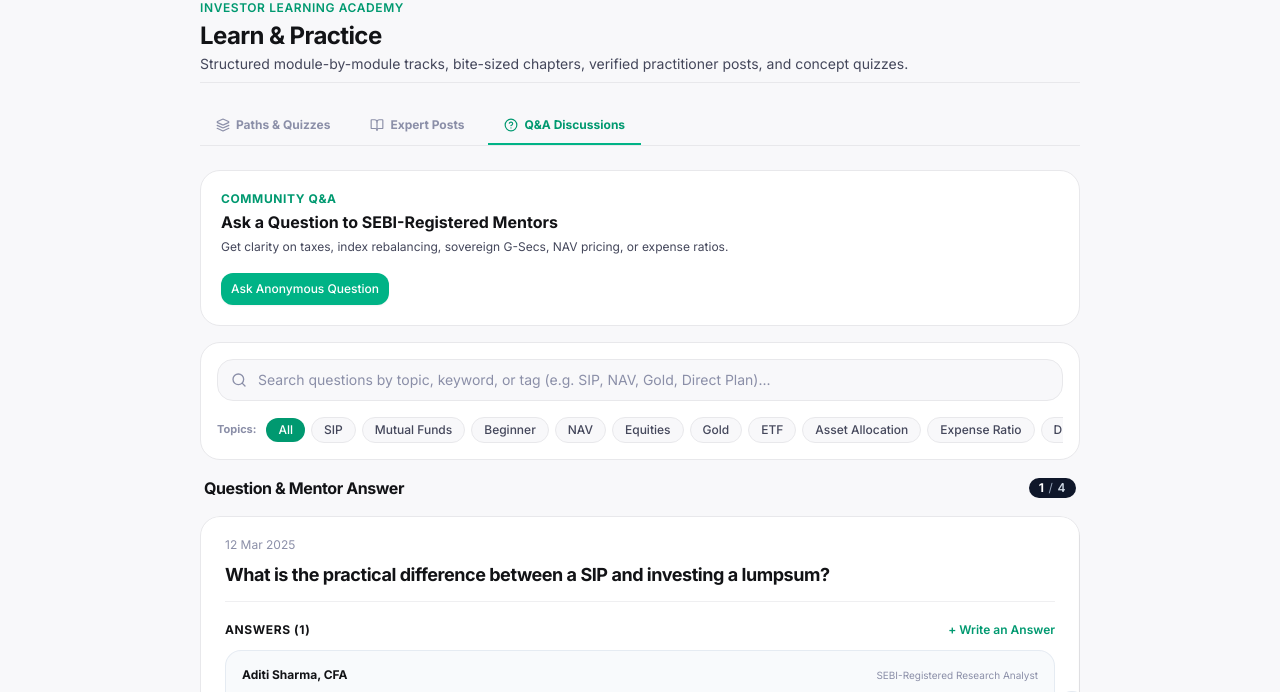
Test: LearnPage Q&A Discussions › does NOT render community standards and rules, and provides interactive question search and tag filtering
The image size is (1280, 692).
expect the heading "What is the practical difference between a SIP and investing a lumpsum" is shown: met, box [225,564,830,584]
# Search for "Gold"
Replace the text in the field labelled "Search questions" with "Gold": (640, 380) [217,358,1063,400]
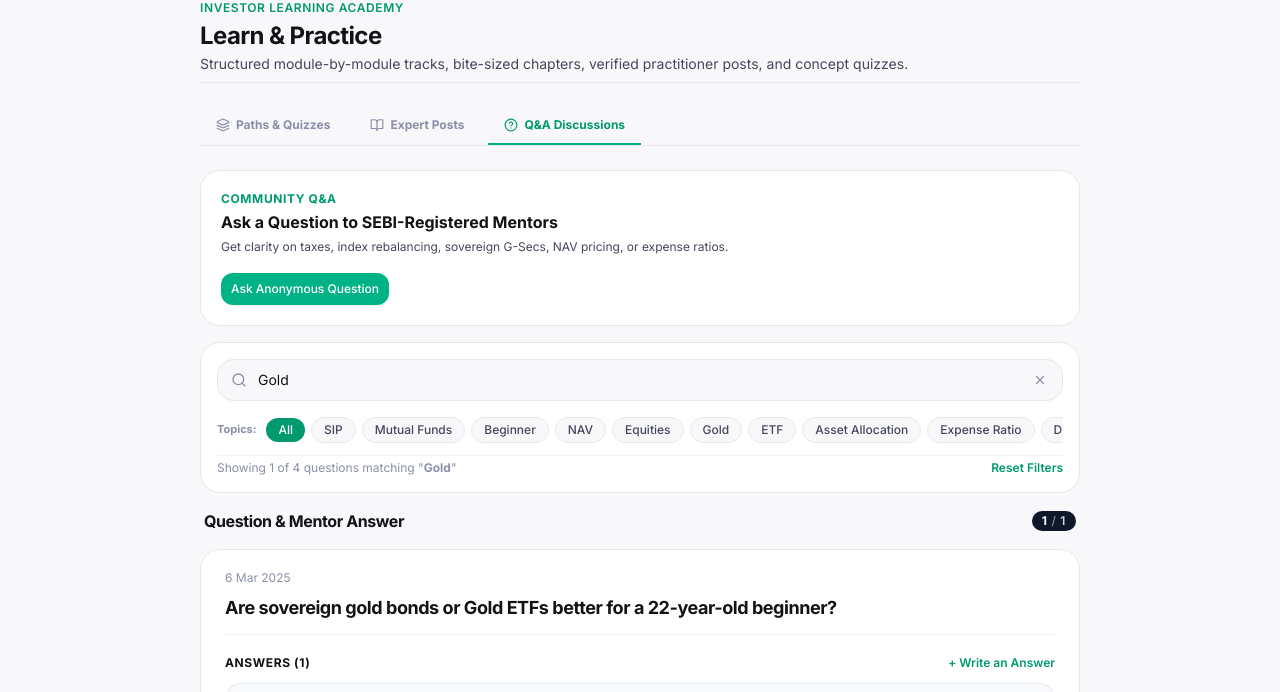
expect the heading "Are sovereign gold bonds or Gold ETFs better for a 22-year-old beginner" is shown: met, box [225,596,837,618]
expect the heading "What is the practical difference between a SIP and investing a lumpsum" is gone: met
# Clear search
Click the button named "Clear search": (1040, 380) [1029,368,1051,390]
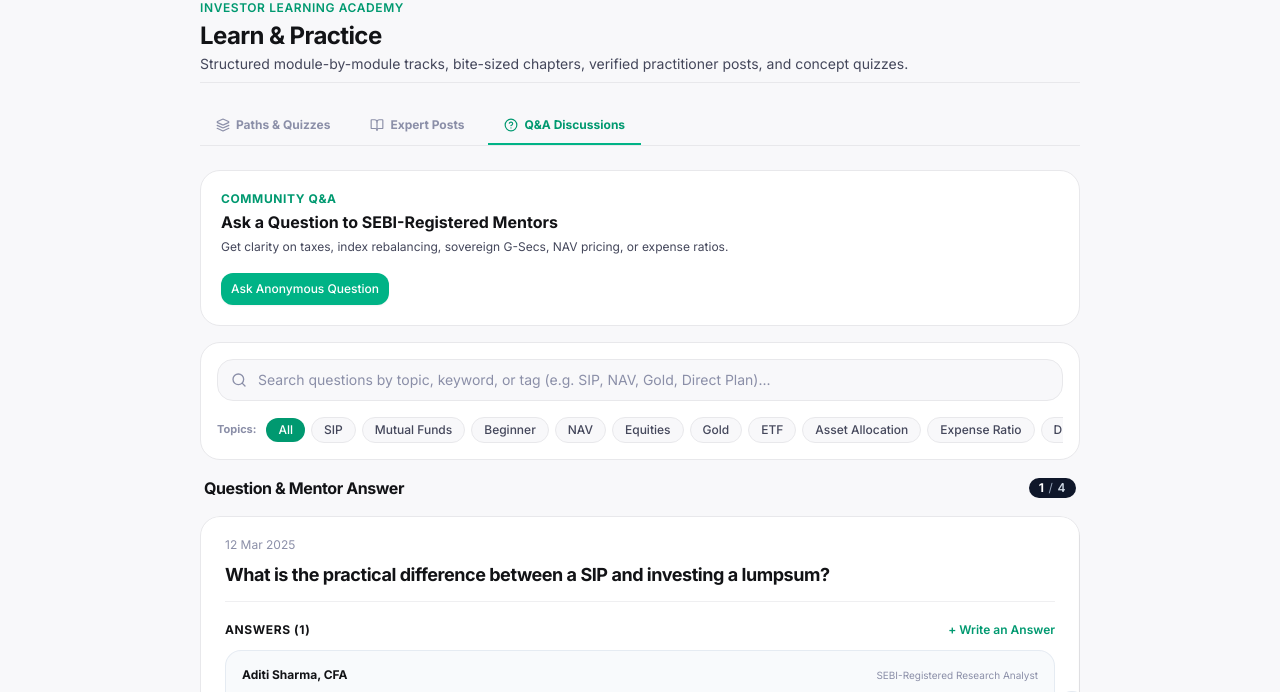
expect the heading "What is the practical difference between a SIP and investing a lumpsum" is shown: met, box [225,564,830,584]
# Search for a non-existent question to test empty state
Replace the text in the field labelled "Search questions" with "cryptocurrency speculative coin": (640, 380) [217,358,1063,400]
(page scrolled)
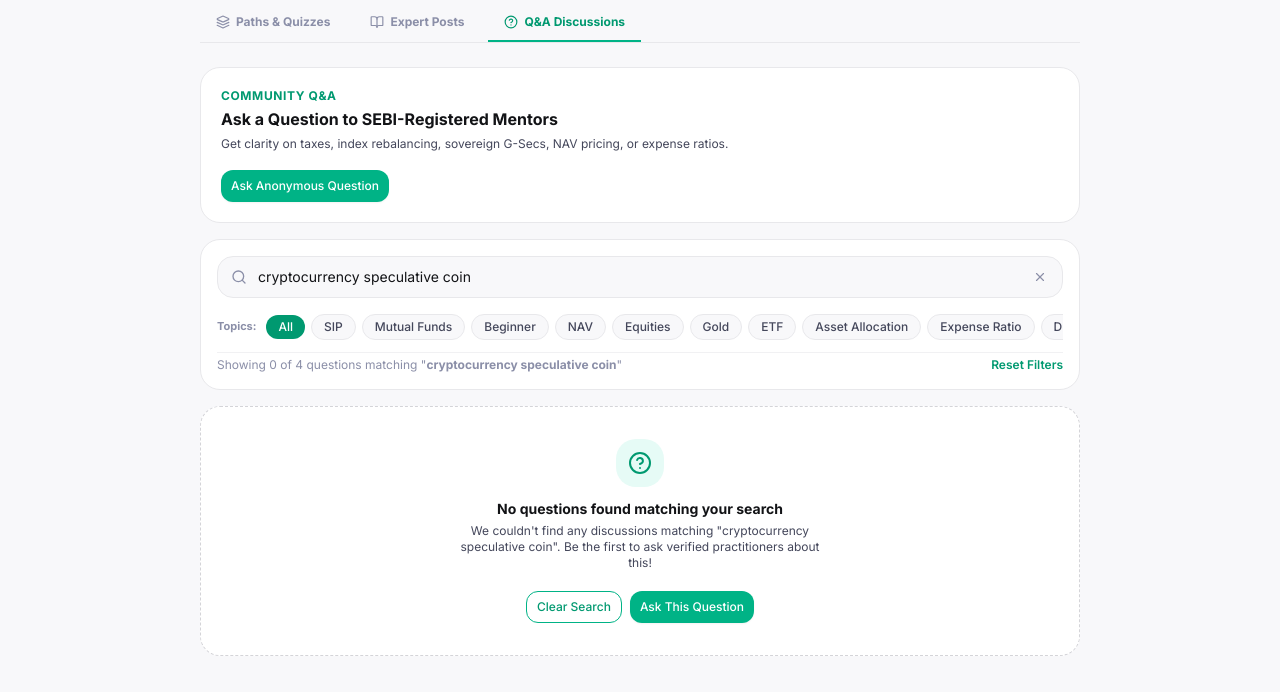
expect the heading "No questions found matching your search" is shown: met, box [497,500,783,516]
expect the button "Ask This Question" is shown: met, box [630,590,754,622]
